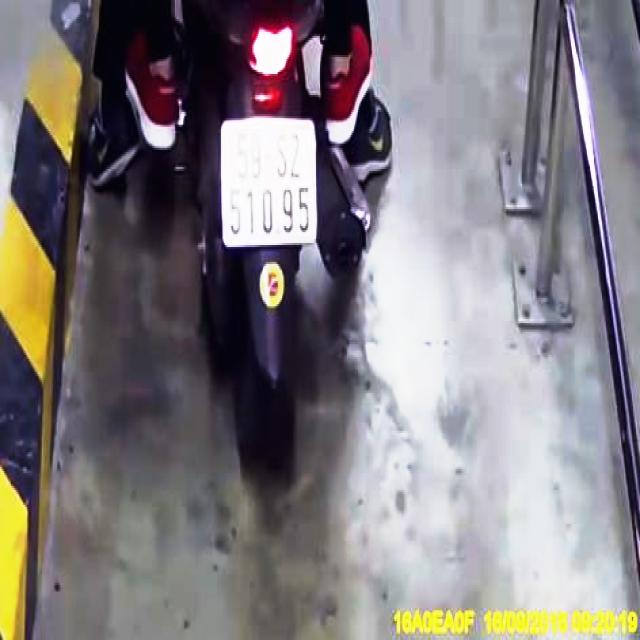license_plate: (220, 123, 318, 245)
